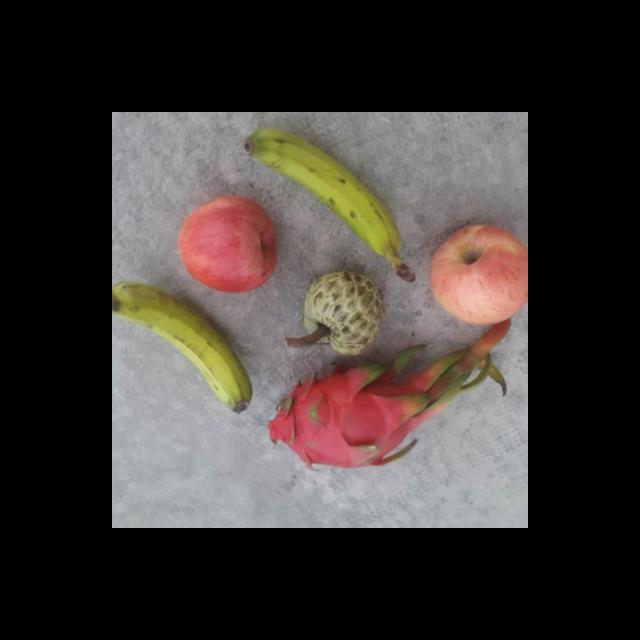Sakya fruit: (290, 269, 386, 359)
apple: (422, 220, 528, 324), (173, 196, 280, 294)
banana: (239, 126, 417, 284), (112, 283, 252, 413)
pitaya: (267, 355, 430, 470)
